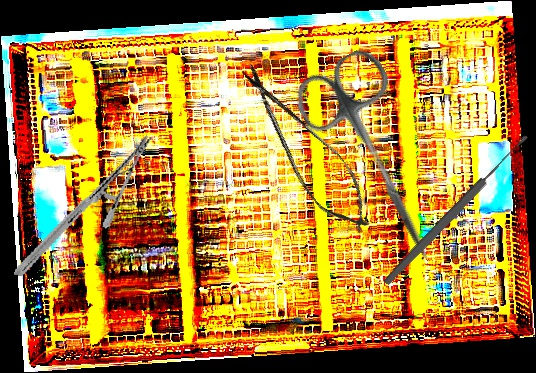Iris Scissors: (287, 43, 472, 279)
Micro Scissor: (224, 53, 386, 245)
Needle Holder: (13, 112, 153, 300)
Surgical Spoon: (381, 132, 532, 288)
